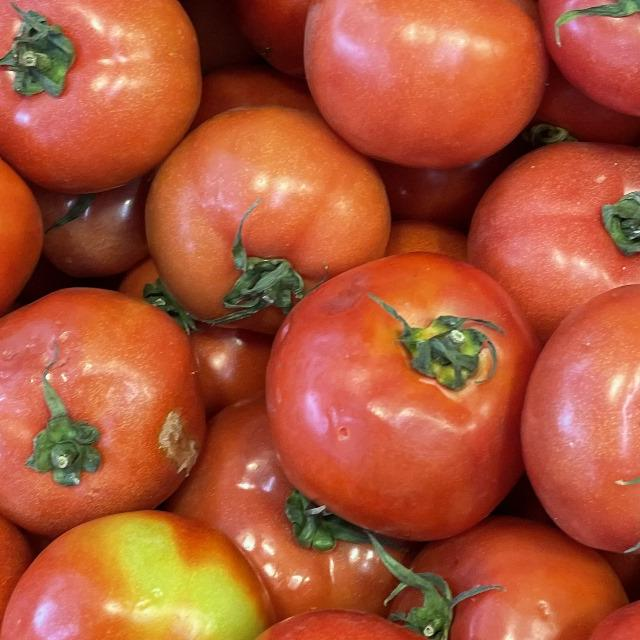tomato: (268, 242, 580, 552), (0, 275, 237, 535), (285, 0, 567, 182), (492, 257, 640, 560), (0, 0, 220, 197), (0, 70, 75, 362)
